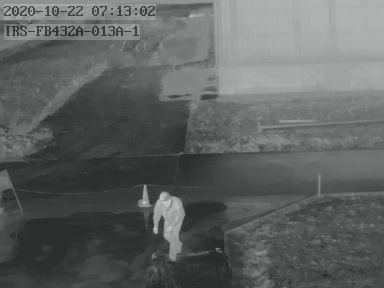person: (153, 190, 184, 260)
